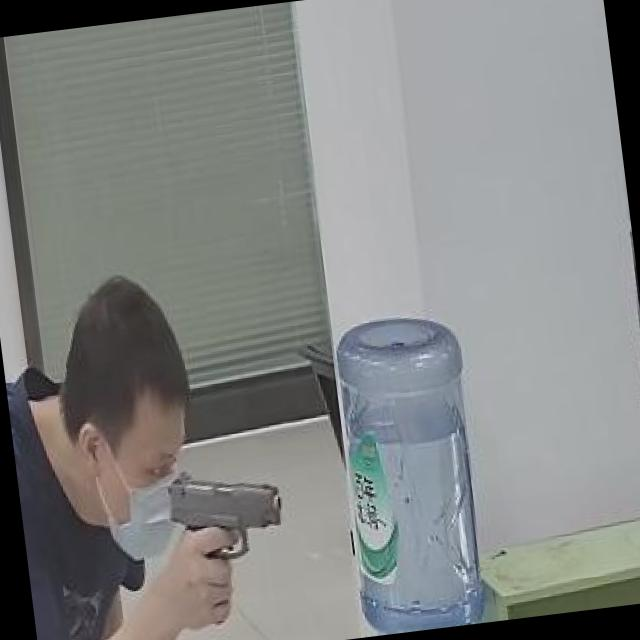Guns: (152, 447, 308, 626)
